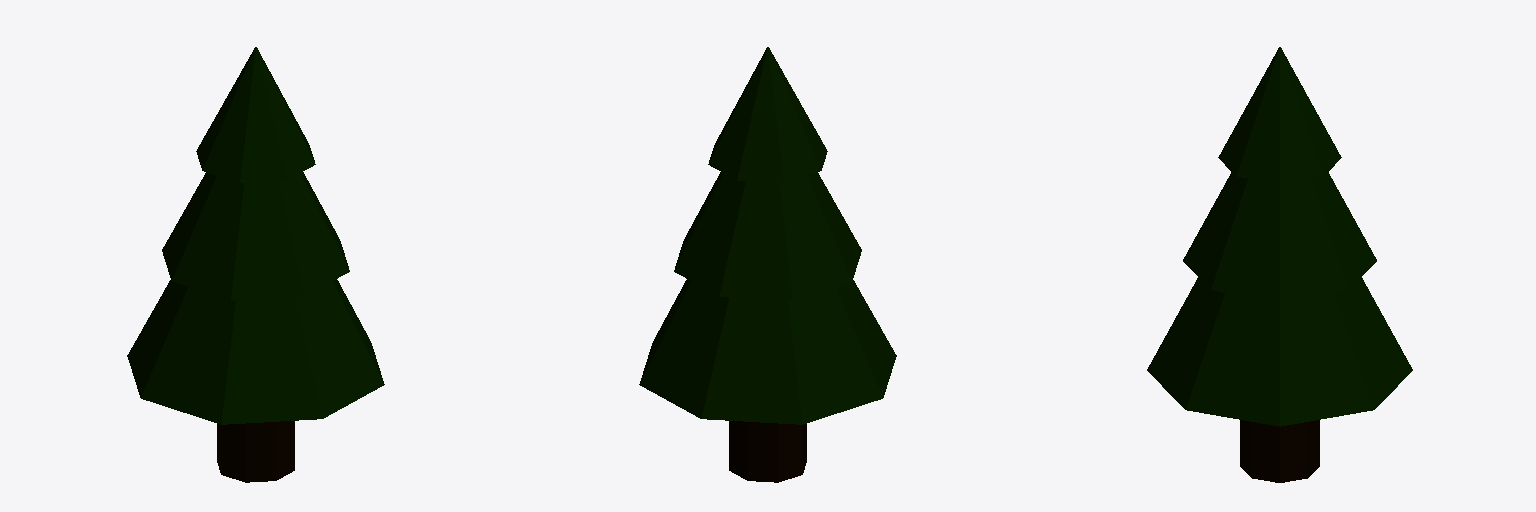
The model's file is Tree.obj.
3 renders of one model, left to right at view 1: azimuth 30°, elevation 25°; view 2: azimuth 150°, elevation 25°; view 3: azimuth 270°, elevation 25°, orthographic.
Parts seen in each view (by area): view 1: Cone, Cone.001, Cone.002, Cylinder; view 2: Cone, Cone.001, Cone.002, Cylinder; view 3: Cone, Cone.001, Cone.002, Cylinder.
Part boxes in pixels (x1,y1,x2,y2): Cone: (127,279,384,424); Cone.001: (162,172,349,300); Cone.002: (196,47,315,182); Cylinder: (217,421,294,482); Cone: (639,279,896,424); Cone.001: (674,172,861,300); Cone.002: (708,47,827,182); Cylinder: (729,421,806,482); Cone: (1147,277,1412,426); Cone.001: (1183,172,1376,301); Cone.002: (1218,47,1341,183); Cylinder: (1240,420,1319,482).
Size of the model in its own units: 4.17 by 7.27 by 4.17.